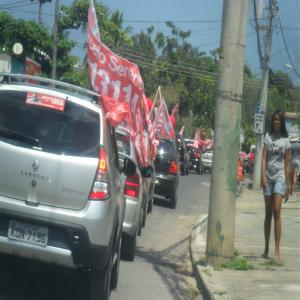Vehicle-registration-plate: (8, 220, 50, 248)
